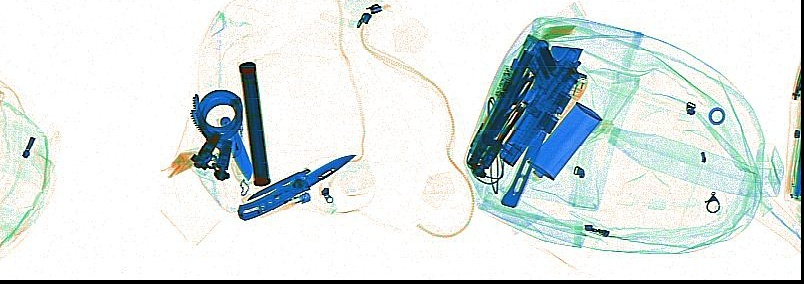handcuffs: (467, 91, 528, 179), (187, 88, 242, 181)
knife: (497, 44, 583, 207), (233, 151, 356, 222), (242, 165, 312, 203), (214, 115, 253, 182)
lighter: (256, 191, 312, 215)
zippooil: (525, 100, 602, 181)
